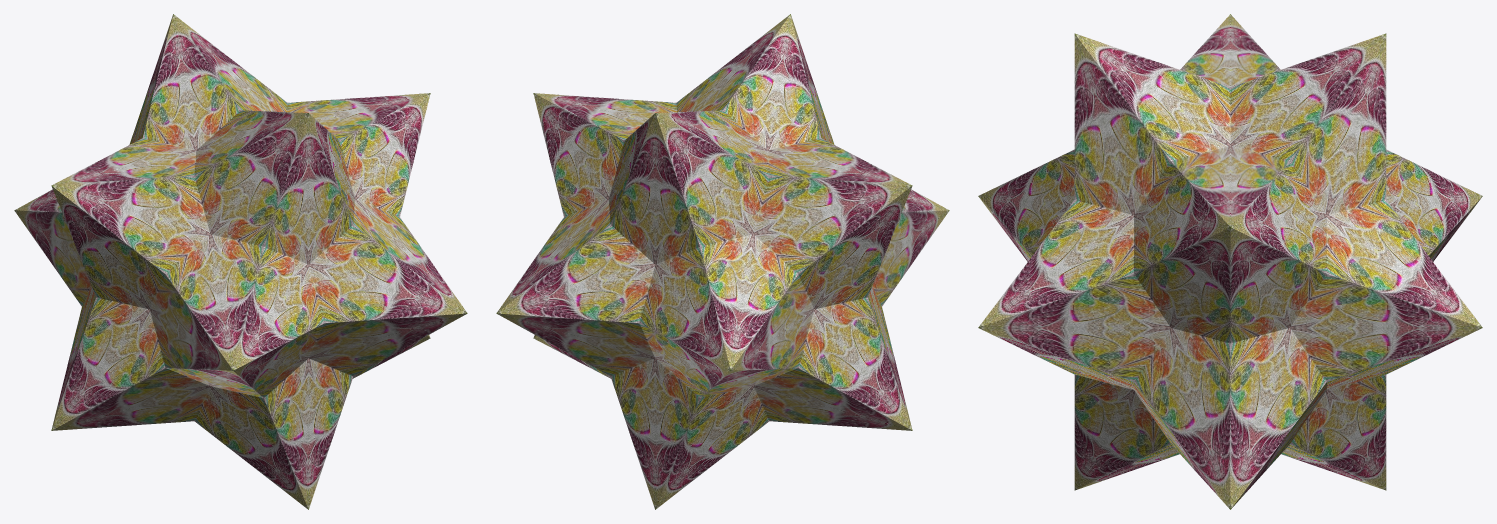
File: MedialRhombicTriacontahedron4.obj
The picture shows the model from 3 angles, left to right: view 1: azimuth 30°, elevation 25°; view 2: azimuth 150°, elevation 25°; view 3: azimuth 270°, elevation 25°; orthographic projection. The views are drawn at different scales.
Size of the model in its own units: 2.43 by 2.43 by 2.43.
Materials: 1 (1 with a texture image).
